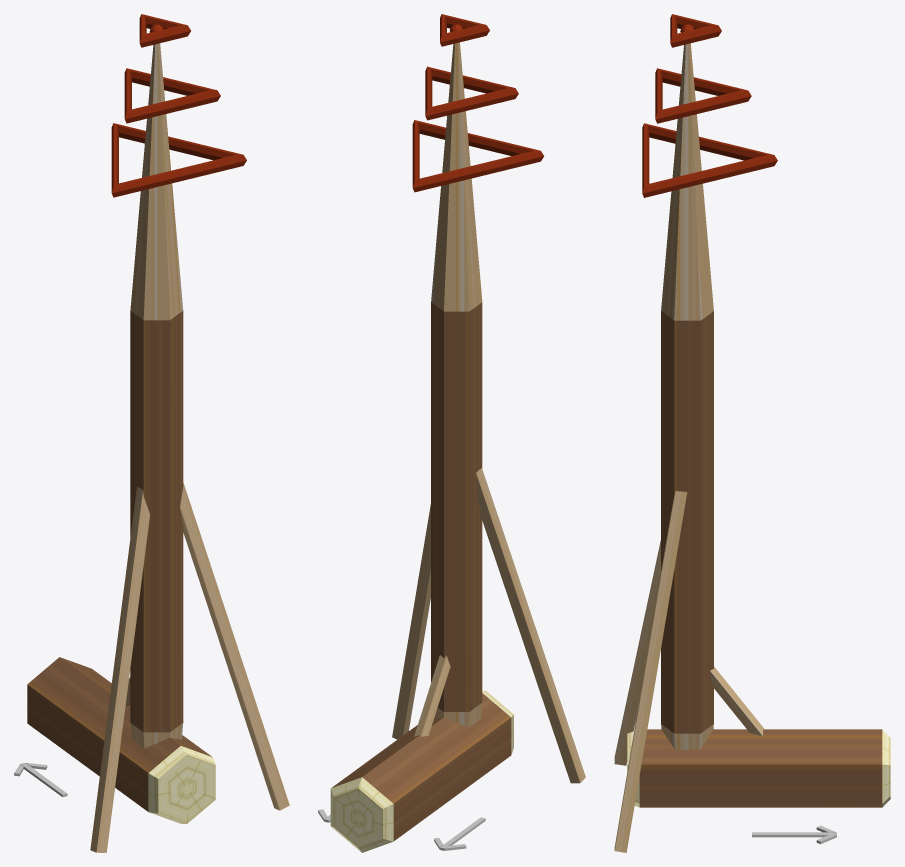
Rendered from ReceiverCrude.obj.
3 renders of one model, left to right at view 1: azimuth 30°, elevation 25°; view 2: azimuth 150°, elevation 25°; view 3: azimuth 270°, elevation 25°, orthographic. The views are drawn at different scales.
Parts seen in each view (by area): view 1: Cylinder.001_Cylinder.002, Cylinder, Cube, Torus.003_Torus, Torus.004_Torus.001, Torus.005_Torus.002; view 2: Cylinder.001_Cylinder.002, Cylinder, Cube, Torus.003_Torus, Torus.004_Torus.001, SupportLeg2_Cylinder.001, Torus.005_Torus.002, Cube.001_Cube.008; view 3: Cylinder.001_Cylinder.002, Cylinder, Cube, Torus.003_Torus, Torus.004_Torus.001, SupportLeg2_Cylinder.001, Torus.005_Torus.002, Cube.001_Cube.008.
Part boxes in pixels (left/top/right/bottom): Cylinder.001_Cylinder.002: left=130, top=43, right=183, bottom=748; Cylinder: left=27, top=657, right=215, bottom=823; Cube: left=90, top=483, right=289, bottom=852; Torus.003_Torus: left=111, top=123, right=246, bottom=197; Torus.004_Torus.001: left=124, top=68, right=220, bottom=123; Torus.005_Torus.002: left=139, top=14, right=190, bottom=47; Cylinder.001_Cylinder.002: left=431, top=42, right=482, bottom=727; Cylinder: left=330, top=690, right=513, bottom=852; Cube: left=392, top=468, right=585, bottom=783; Torus.003_Torus: left=412, top=120, right=544, bottom=192; Torus.004_Torus.001: left=425, top=66, right=518, bottom=120; SupportLeg2_Cylinder.001: left=414, top=655, right=450, bottom=736; Torus.005_Torus.002: left=440, top=14, right=489, bottom=46; Cube.001_Cube.008: left=318, top=809, right=485, bottom=850; Cylinder.001_Cylinder.002: left=661, top=43, right=713, bottom=749; Cylinder: left=627, top=729, right=890, bottom=807; Cube: left=614, top=491, right=687, bottom=852; Torus.003_Torus: left=642, top=123, right=777, bottom=197; Torus.004_Torus.001: left=655, top=68, right=751, bottom=123; SupportLeg2_Cylinder.001: left=710, top=666, right=764, bottom=736; Torus.005_Torus.002: left=670, top=14, right=721, bottom=47; Cube.001_Cube.008: left=752, top=825, right=836, bottom=844.
Size of the model in its own units: 2.36 by 9.09 by 2.9.
Materials: 5 (3 with a texture image).
